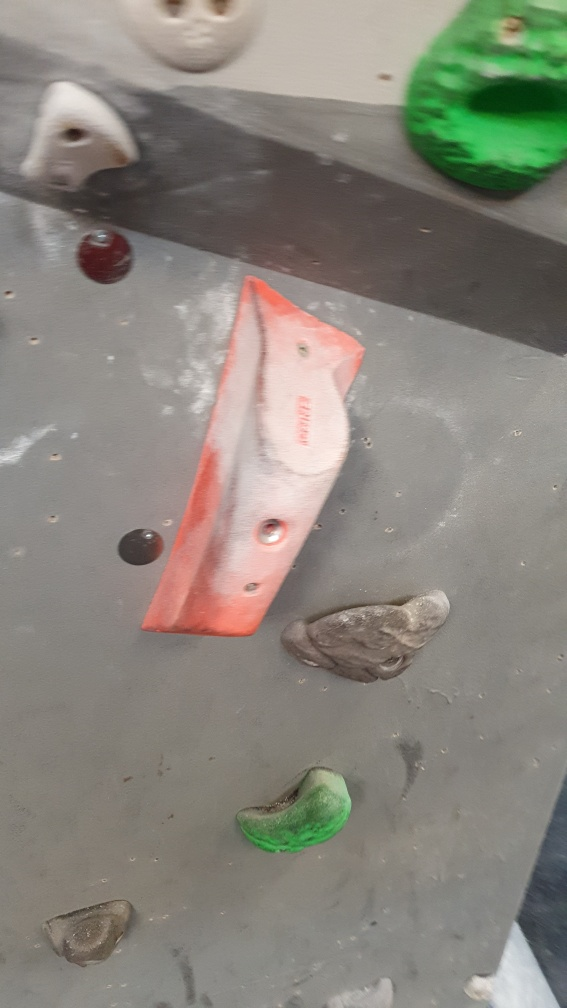Hand Start: (73, 228, 139, 291), (115, 525, 168, 566)
Jug: (276, 590, 456, 684), (233, 762, 360, 856)
Pinch: (133, 274, 365, 642)
